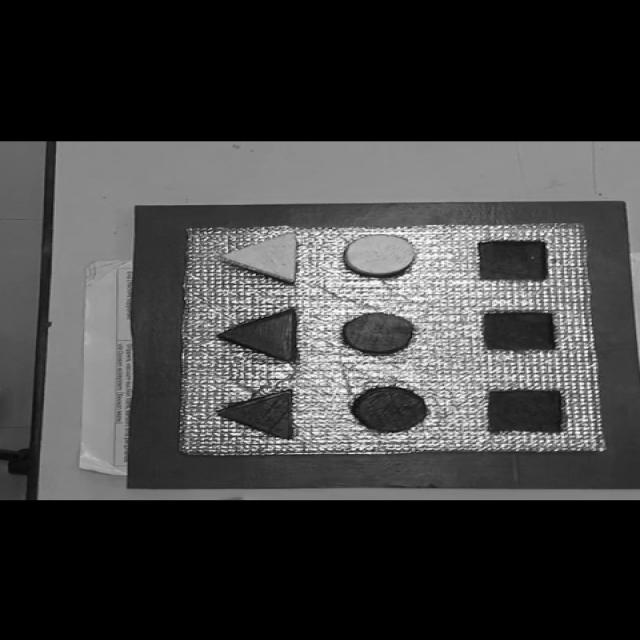bcircle: (350, 386, 428, 431)
btriangle: (215, 389, 295, 439)
mtcube: (484, 388, 568, 434), (475, 239, 551, 283), (480, 311, 559, 351)
rcircle: (336, 312, 419, 356)
rtriangle: (216, 308, 298, 361)
wb: (178, 222, 608, 454)
ycircle: (342, 233, 416, 277)
ytriangle: (220, 230, 300, 284)
